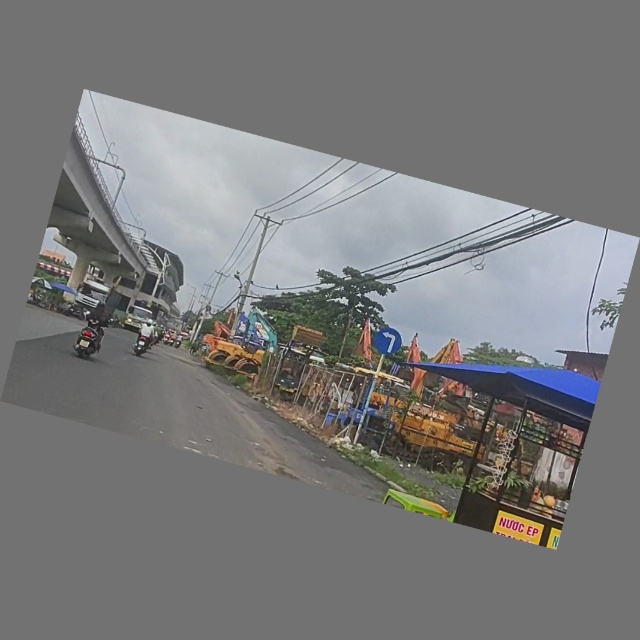R.301e: (369, 325, 406, 360)
